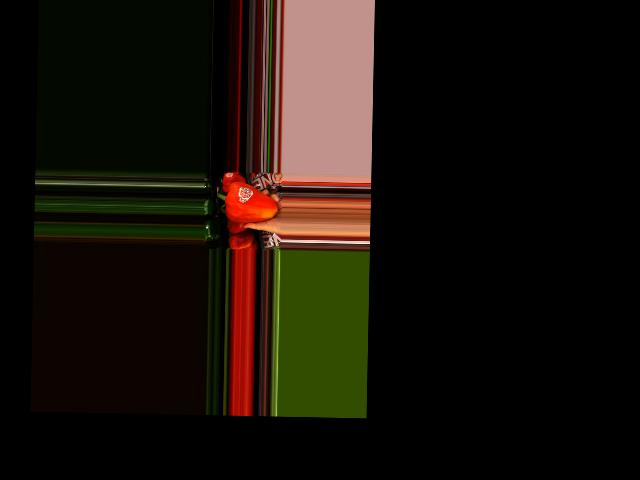bell_pepper: (215, 180, 277, 227)
